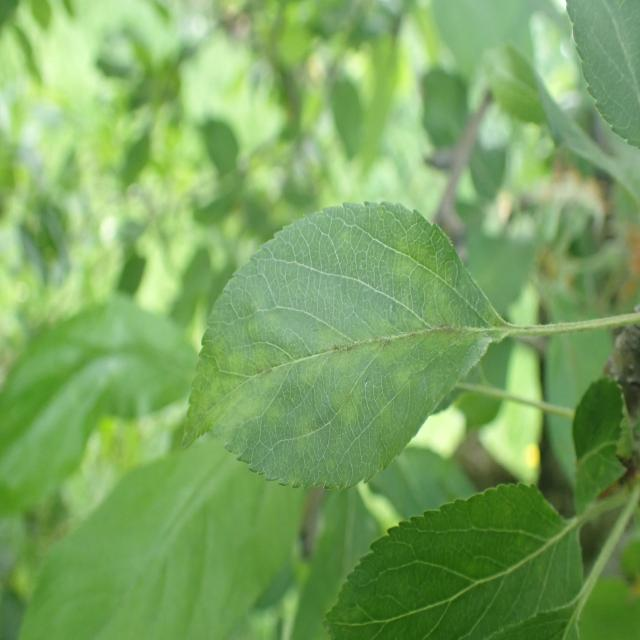scab: (182, 228, 489, 454)
